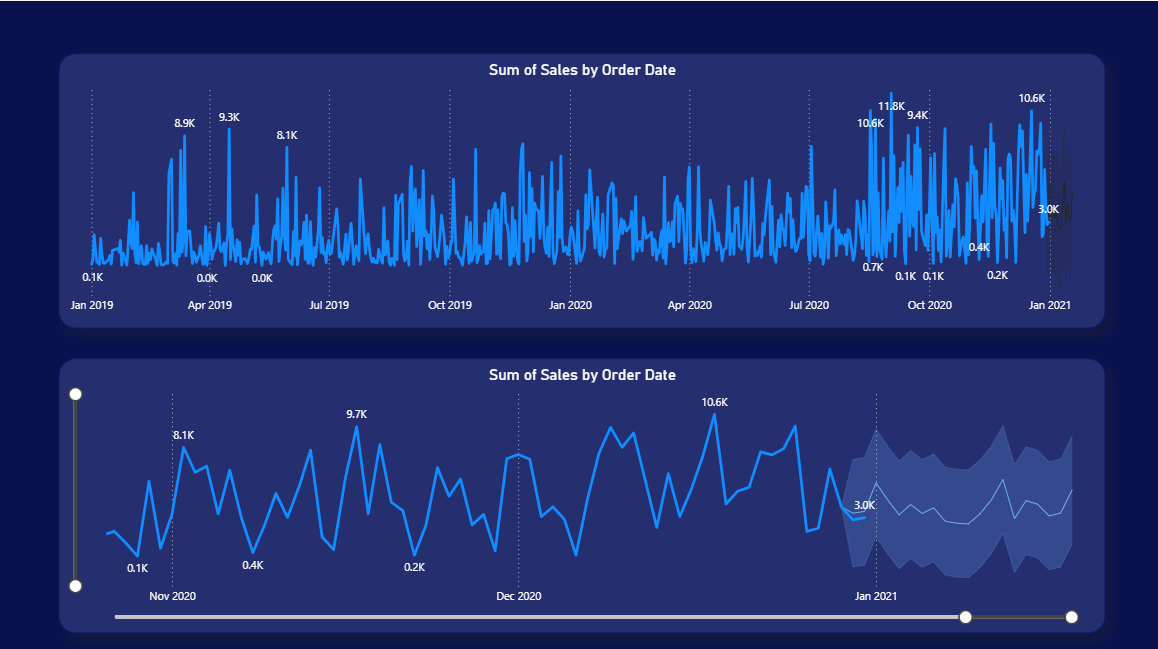

What the dashboard file says about the page in this screenshot:
{"tool":"powerbi","page":{"name":"Page 2","canvas":[1280,720],"ordinal":1},"visuals":[{"type":"lineChart","fields":{"Y":["Sum(SuperStore_Sales_Dataset.Sales)"],"Category":["SuperStore_Sales_Dataset.Order Date"]},"box":[65.7,35.7,1148.6,301.4],"z":0}]}

Visuals, with their boxes in screenshot pixels (x1, y1, x2, y2), scaled from the page's 1280x720 canvas onto the 1158x649 screenshot:
lineChart - Sum(SuperStore_Sales_Dataset.Sales) x SuperStore_Sales_Dataset.Order Date: {"left": 59, "top": 32, "right": 1099, "bottom": 304}
